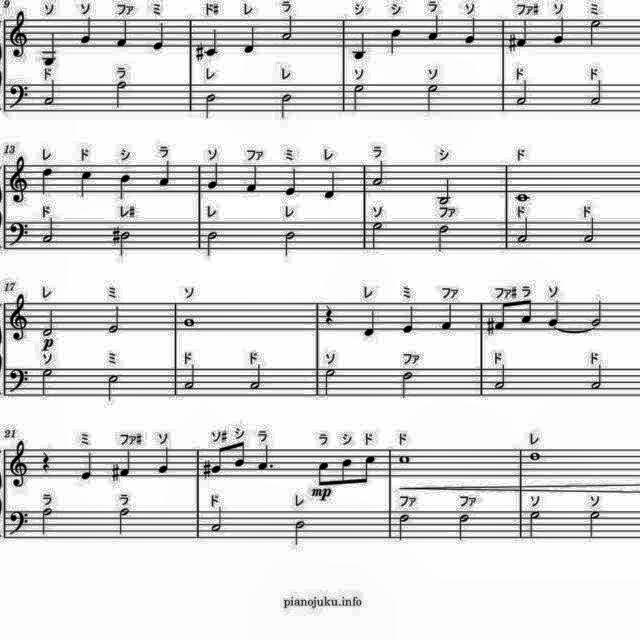Bass-clef: (8, 362, 32, 398), (7, 80, 33, 112), (9, 218, 31, 250), (7, 508, 31, 536)
Diez: (108, 462, 122, 483), (194, 41, 206, 63), (110, 226, 122, 247), (484, 316, 496, 336), (203, 458, 213, 482), (507, 34, 517, 54)
Eighth-note: (335, 456, 357, 488), (494, 299, 514, 333), (362, 452, 378, 488), (210, 445, 228, 475), (519, 296, 535, 328), (232, 438, 248, 470), (316, 457, 332, 487)
Full-note: (511, 190, 533, 206), (525, 448, 545, 464), (178, 315, 198, 329), (396, 453, 414, 465)
Half-note: (207, 502, 230, 538), (100, 370, 124, 404), (278, 228, 302, 260), (246, 360, 266, 396), (524, 508, 544, 544), (511, 214, 533, 246), (367, 218, 387, 252), (436, 175, 456, 208), (346, 82, 369, 110), (276, 90, 296, 122), (422, 80, 442, 112), (433, 222, 453, 254), (396, 370, 416, 402), (320, 367, 340, 398), (394, 512, 412, 546), (42, 78, 62, 108), (584, 78, 604, 108), (578, 215, 598, 245), (369, 158, 387, 190), (41, 306, 59, 338), (115, 504, 133, 536), (105, 304, 124, 334), (510, 78, 530, 106), (490, 364, 510, 392), (588, 510, 604, 544), (112, 78, 128, 110), (280, 14, 296, 46), (42, 214, 58, 246), (202, 228, 218, 260), (40, 366, 56, 398), (184, 364, 200, 396), (291, 518, 307, 550), (457, 512, 473, 544), (585, 19, 603, 47), (589, 364, 607, 392), (38, 505, 54, 535), (202, 94, 218, 122), (591, 299, 605, 329), (118, 228, 130, 260)
Quarter-dot: (254, 442, 278, 474)
Quarter-note: (74, 450, 98, 486), (153, 444, 179, 476), (40, 28, 60, 68), (241, 162, 263, 198), (282, 164, 302, 200), (360, 306, 380, 342), (118, 447, 138, 481), (202, 26, 222, 58), (350, 29, 370, 61), (550, 14, 570, 46), (202, 160, 222, 192), (439, 299, 456, 333), (463, 16, 481, 48), (514, 16, 530, 52), (322, 168, 338, 204), (386, 26, 406, 54), (115, 18, 132, 50), (152, 20, 168, 54), (423, 15, 442, 43), (242, 24, 258, 56), (158, 158, 174, 190), (78, 16, 94, 46), (118, 173, 134, 203), (402, 305, 418, 335), (546, 298, 562, 328), (37, 167, 54, 195), (78, 167, 92, 201)
Quarter-rest: (320, 298, 340, 330), (40, 448, 54, 474)
Treble-clef: (5, 438, 31, 488), (7, 153, 30, 207), (8, 11, 32, 61), (8, 292, 30, 340)
